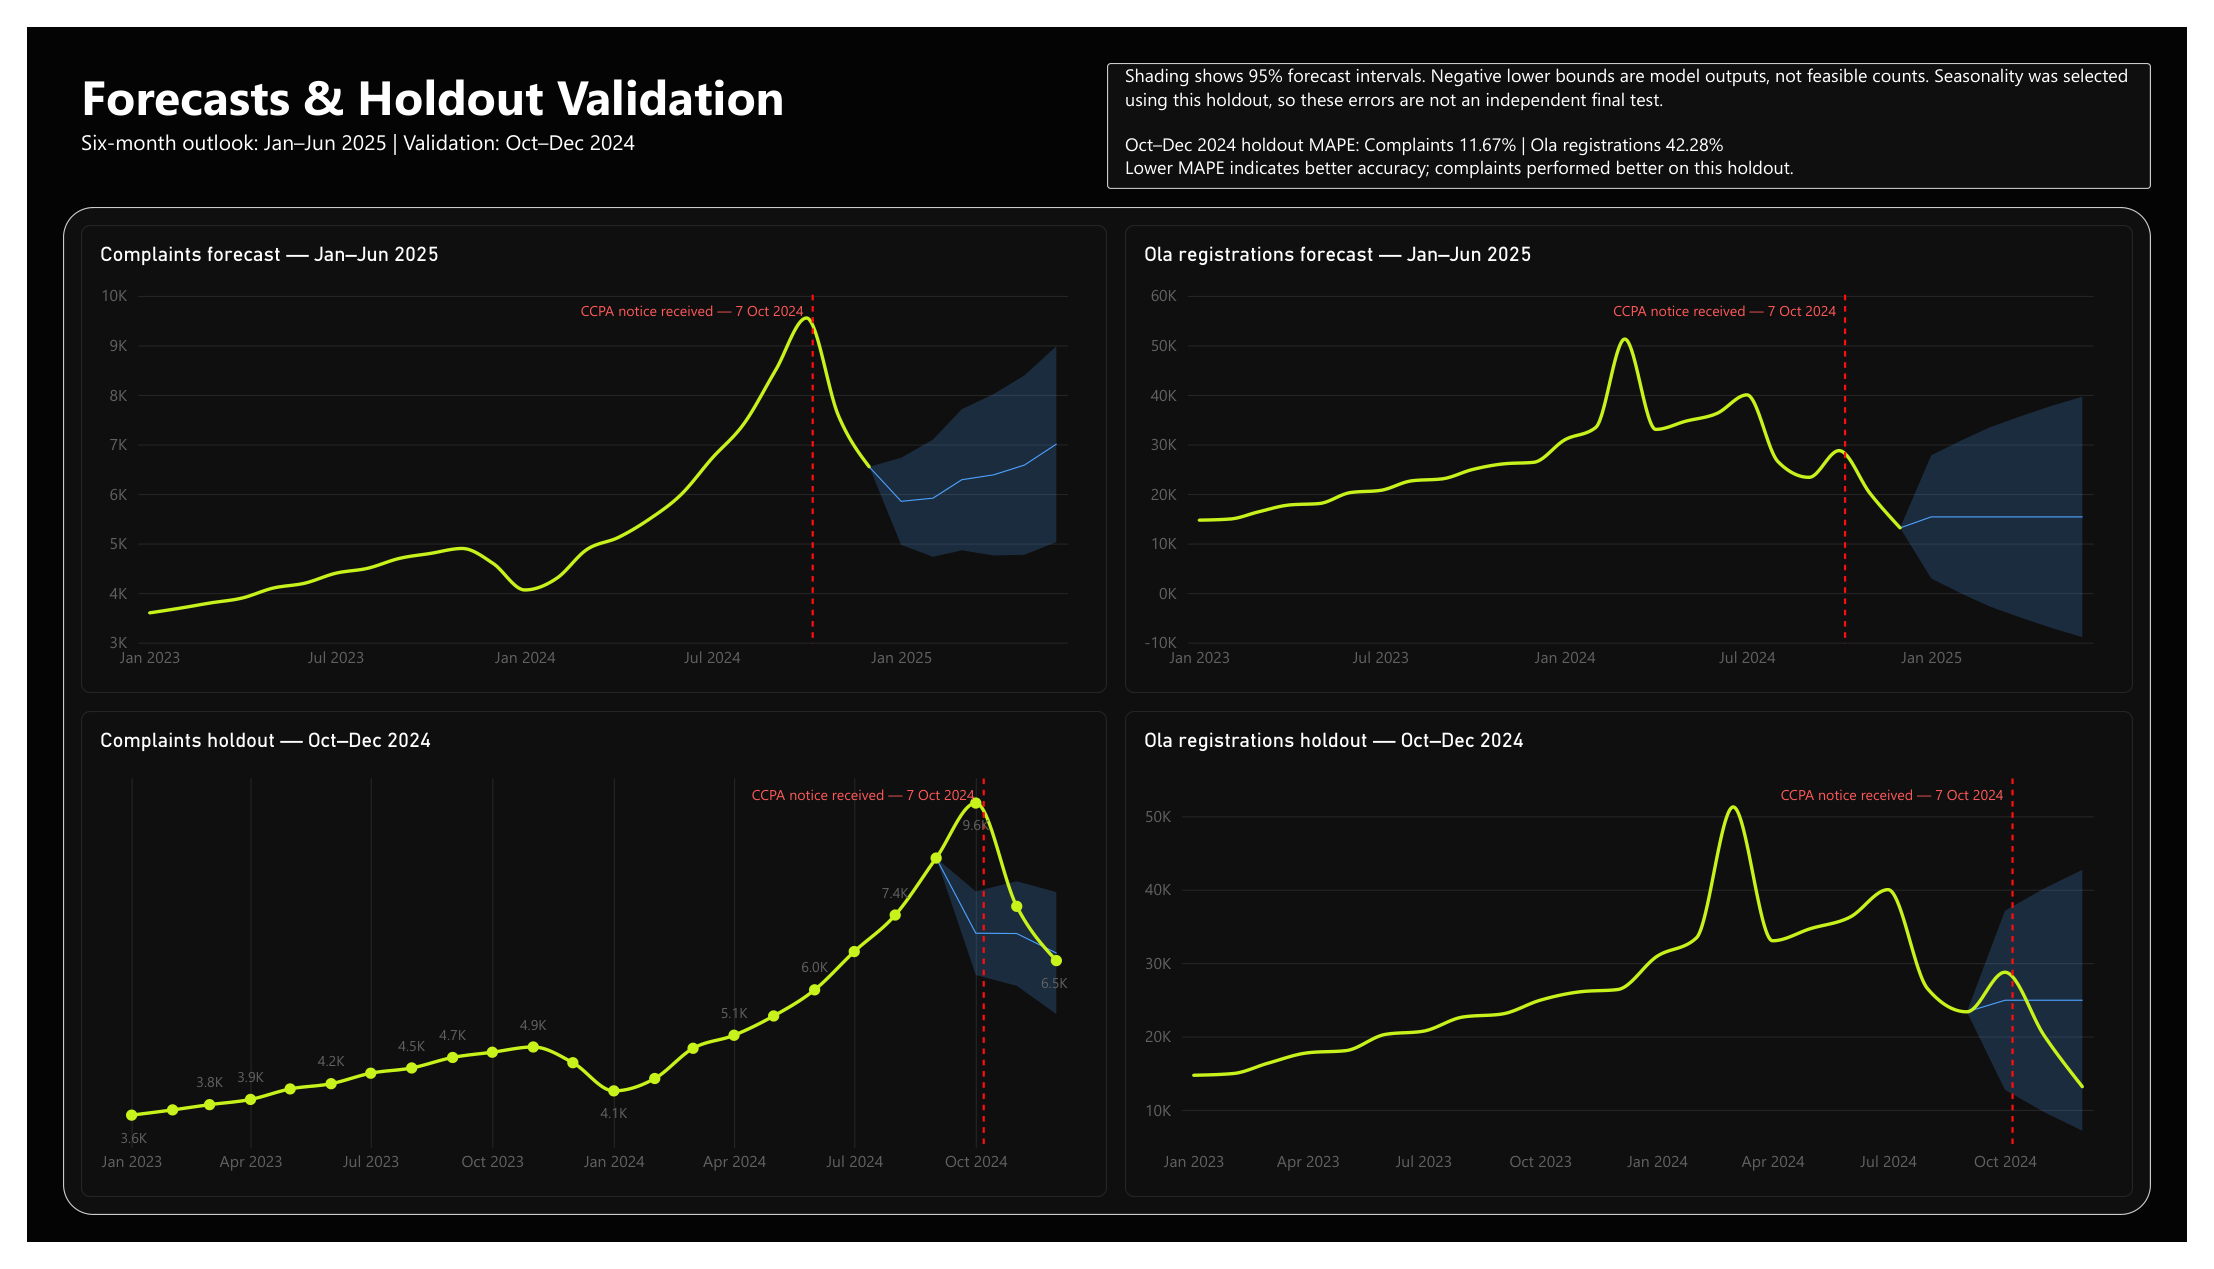

This screenshot's page, from the dashboard's own definition file:
{"tool":"powerbi","page":{"name":"Forecasting","canvas":[1920,1080],"ordinal":5},"visuals":[{"type":"shape","box":[960,32,928,112],"z":0},{"type":"shape","box":[32,160,1856,896],"z":1000},{"type":"lineChart","title":"Ola registrations forecast — Jan–Jun 2025","fields":{"Category":["ola_star dim_date.Month Start"],"Y":["ola_star fact_vahan_registrations.Total Registrations"]},"box":[976,176,896,416],"z":2000},{"type":"lineChart","title":"Complaints forecast — Jan–Jun 2025","fields":{"Category":["ola_star dim_date.Month Start"],"Y":["ola_star fact_complaints.Total Complaints"]},"box":[48,176,912,416],"z":3000},{"type":"lineChart","title":"Complaints holdout — Oct–Dec 2024","fields":{"Category":["ola_star dim_date.Month Start"],"Y":["ola_star fact_complaints.Total Complaints"]},"box":[48,608,912,432],"z":4000},{"type":"lineChart","title":"Ola registrations holdout — Oct–Dec 2024","fields":{"Category":["ola_star dim_date.Month Start"],"Y":["ola_star fact_vahan_registrations.Total Registrations"]},"box":[976,608,896,432],"z":5000},{"type":"textbox","box":[48,32,768,96],"z":6000},{"type":"textbox","box":[976,32,928,144],"z":7000}]}

Visuals, with their boxes in screenshot pixels (x1, y1, x2, y2), scaled from the page's 1920x1080 canvas onto the 2214x1269 screenshot:
shape: {"left": 1107, "top": 38, "right": 2177, "bottom": 169}
shape: {"left": 37, "top": 188, "right": 2177, "bottom": 1241}
"Ola registrations forecast — Jan–Jun 2025" lineChart: {"left": 1125, "top": 207, "right": 2159, "bottom": 696}
"Complaints forecast — Jan–Jun 2025" lineChart: {"left": 55, "top": 207, "right": 1107, "bottom": 696}
"Complaints holdout — Oct–Dec 2024" lineChart: {"left": 55, "top": 714, "right": 1107, "bottom": 1222}
"Ola registrations holdout — Oct–Dec 2024" lineChart: {"left": 1125, "top": 714, "right": 2159, "bottom": 1222}
textbox: {"left": 55, "top": 38, "right": 941, "bottom": 150}
textbox: {"left": 1125, "top": 38, "right": 2196, "bottom": 207}
